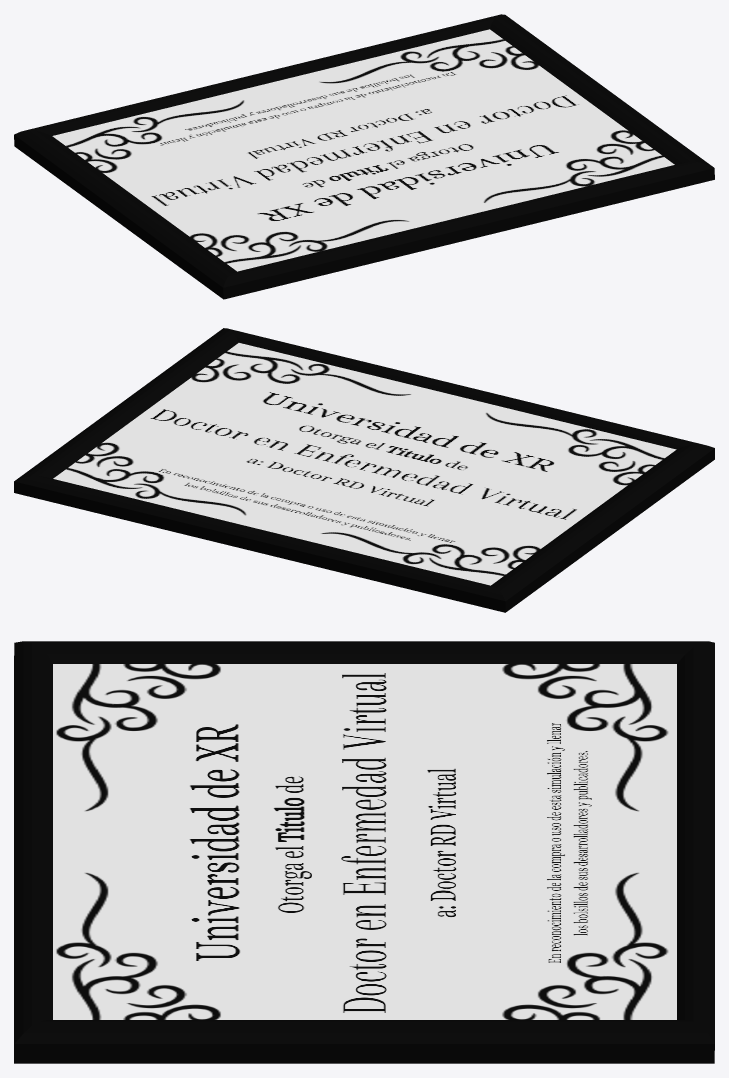
3 views of the same model, one above another, from view 1: azimuth 30°, elevation 25°; view 2: azimuth 150°, elevation 25°; view 3: azimuth 270°, elevation 25° (orthographic). The views are drawn at different scales.
Parts seen in each view (by area): view 1: University of XR; view 2: University of XR; view 3: University of XR.
Part boxes in pixels (x1,y1,x2,y2): University of XR: [14, 14, 714, 299]; University of XR: [14, 328, 714, 612]; University of XR: [14, 641, 714, 1063].
Size of the model in its own units: 1221 by 39.74 by 901.
